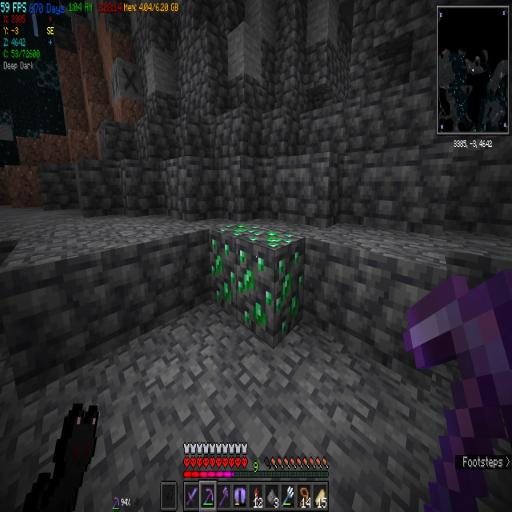emerald ore: (207, 209, 306, 342)
